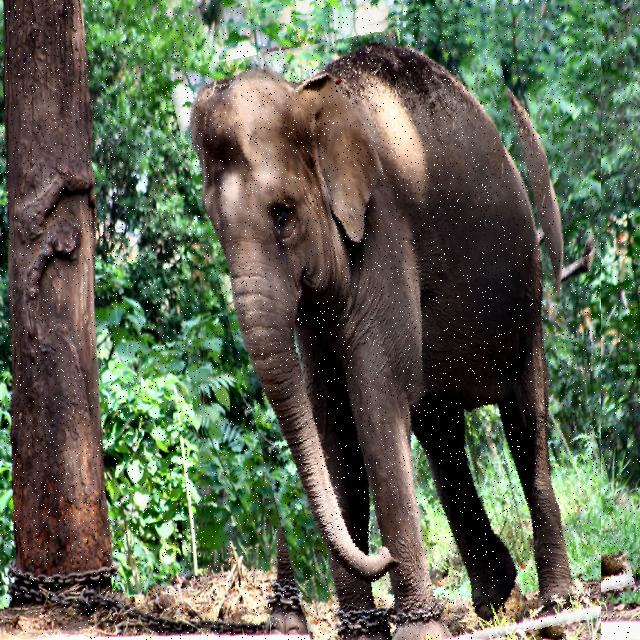elephant: (200, 9, 601, 640)
